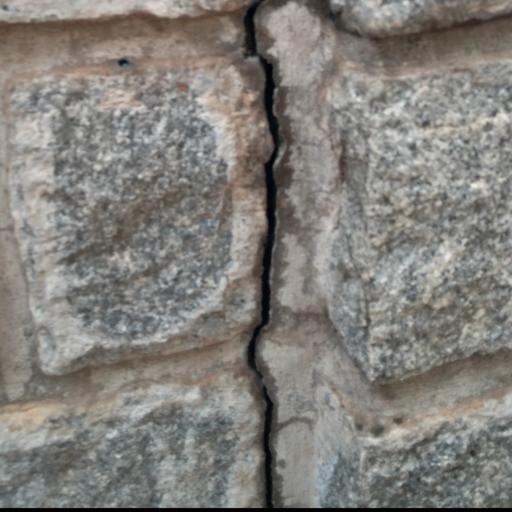major_crack: (238, 1, 287, 506)
